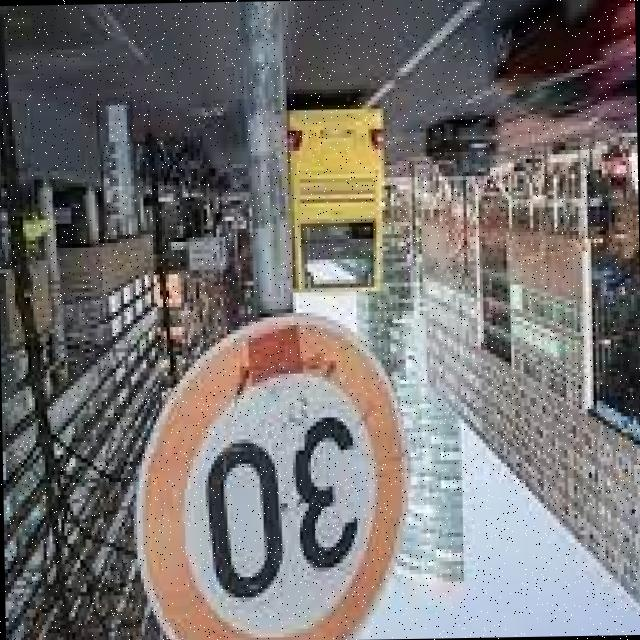speed_limit_30: (123, 306, 422, 640)
